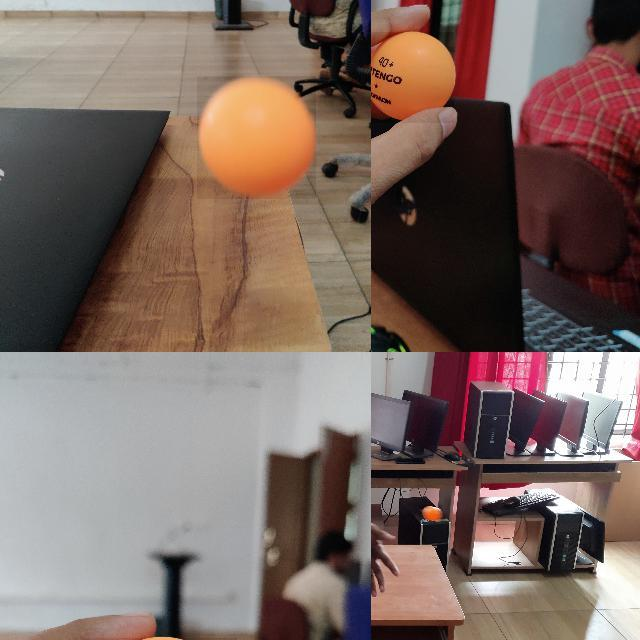ping-pong-ball: (197, 76, 317, 200), (371, 32, 455, 125), (418, 505, 444, 521)
